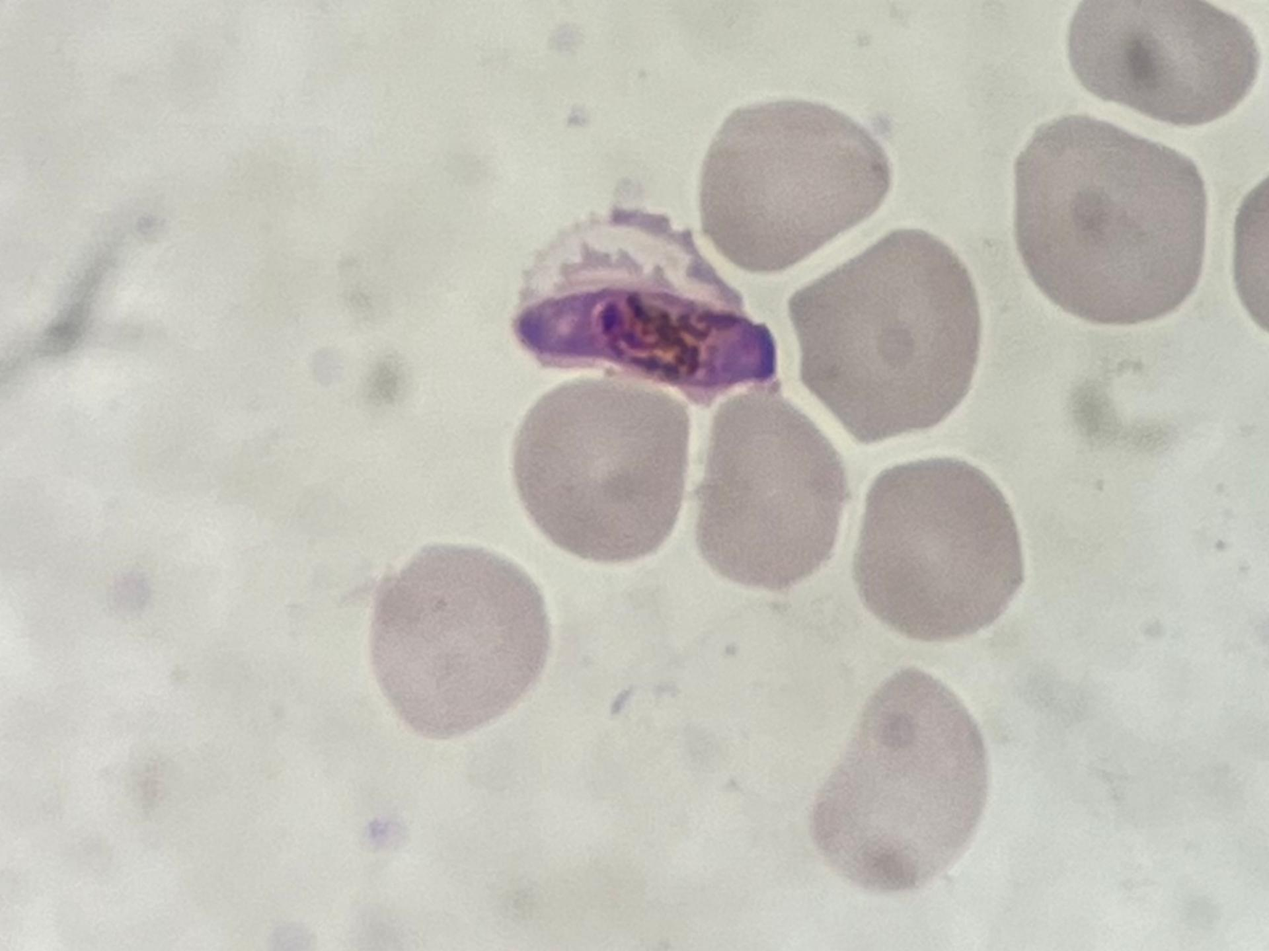Infected: (514, 209, 780, 406)
Uninfected: (1015, 113, 1208, 325), (813, 665, 991, 894), (790, 228, 981, 440), (373, 542, 550, 738), (511, 380, 691, 566), (701, 98, 892, 273), (851, 456, 1023, 639), (694, 397, 845, 592), (1069, 0, 1258, 128)
